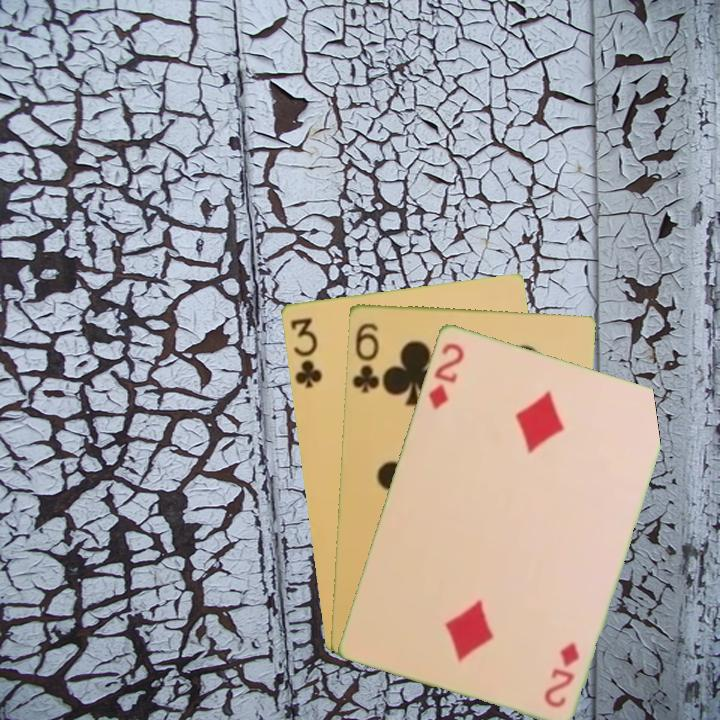2d: (424, 339, 467, 412), (540, 638, 583, 711)
3c: (286, 314, 324, 391)
6c: (348, 319, 382, 396)
